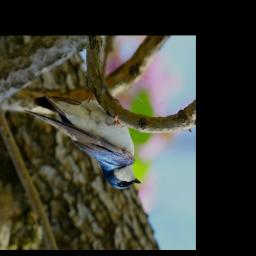Swallow: (23, 85, 141, 190)
